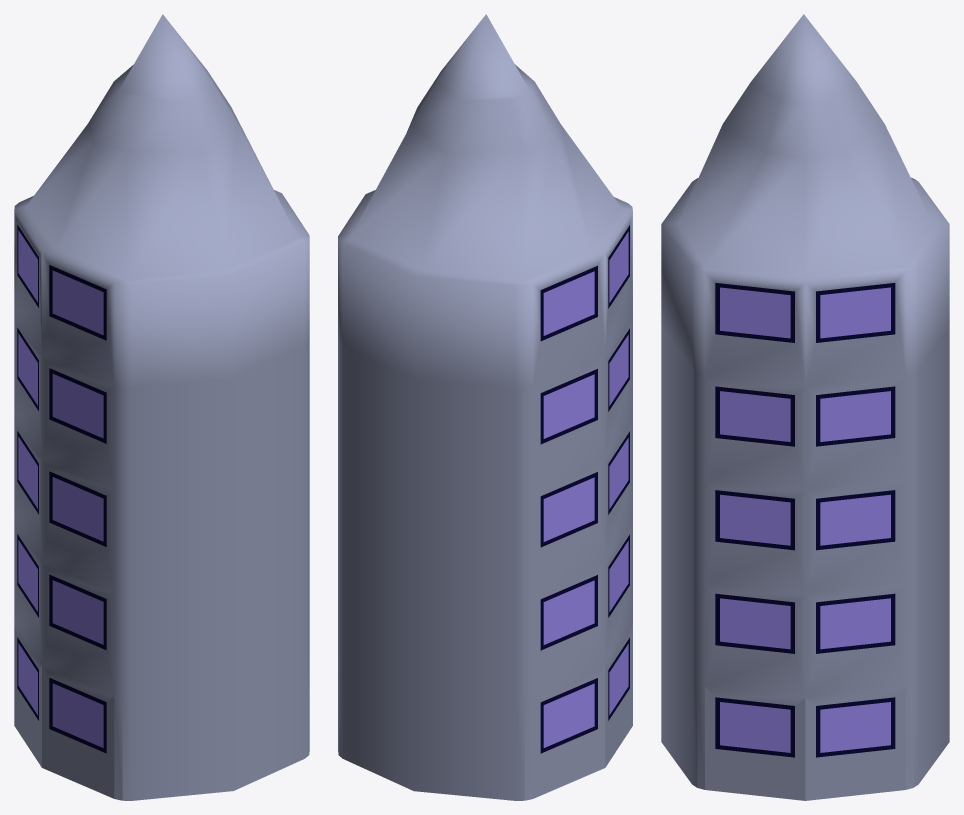
The model's file is predio4.FBX.
3 renders of one model, left to right at view 1: azimuth 30°, elevation 25°; view 2: azimuth 150°, elevation 25°; view 3: azimuth 270°, elevation 25°, orthographic.
Parts seen in each view (by area): view 1: Box001; view 2: Box001; view 3: Box001.
Boxes of the visible parts, x1,y1,x2,y2 form: Box001: [14, 14, 309, 800]; Box001: [338, 14, 632, 800]; Box001: [661, 14, 949, 800].
Size of the model in its own units: 24.59 by 70.97 by 25.45.
